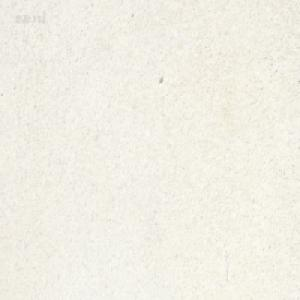Wrench: (204, 0, 211, 5)
